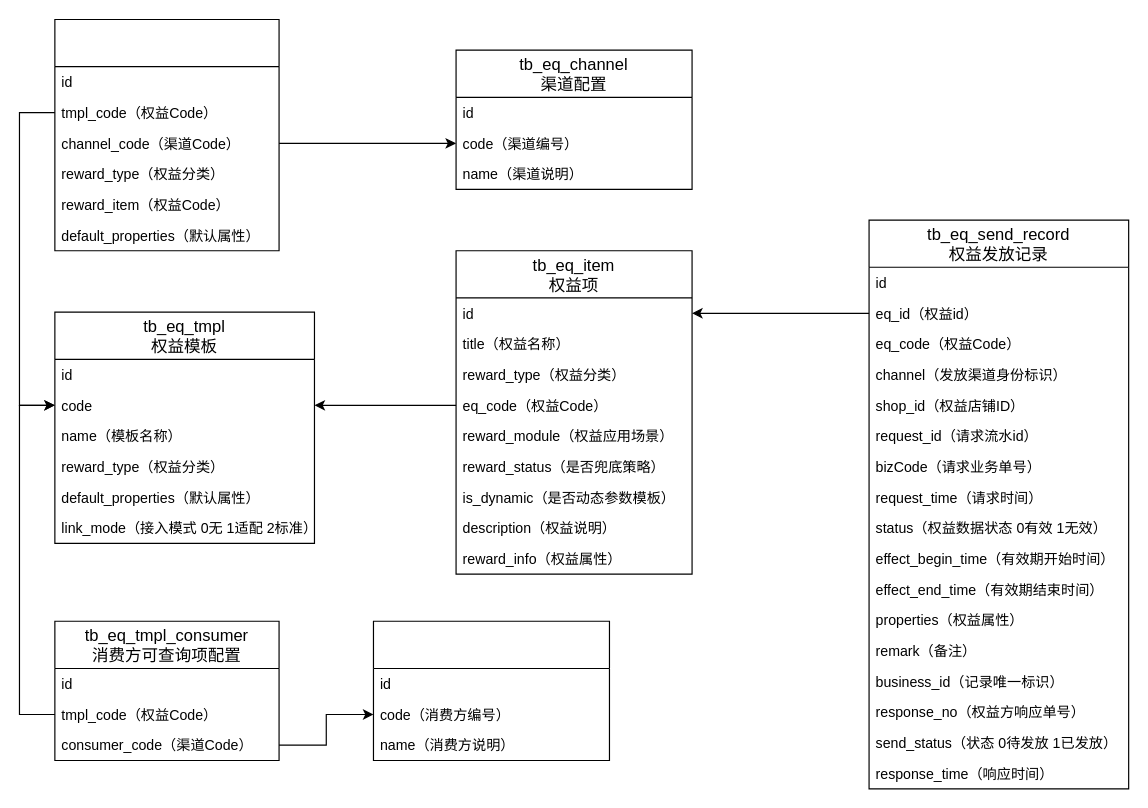
Image size: 1148x808. Some labels were removed from this diagram. Each missing label, with the box of its shape:
tb_eq_consumer 权益消费方配置: (372, 620, 609, 761)
tb_eq_tmpl_channnel 模板可应用渠道配置: (54, 18, 279, 251)
